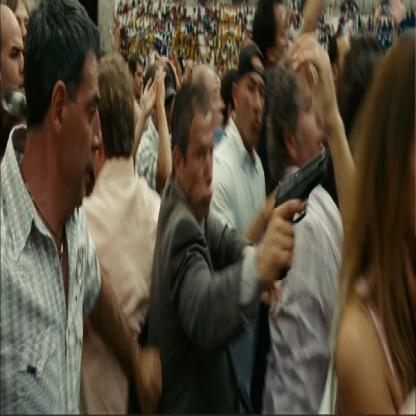Guns: (268, 141, 327, 277)
